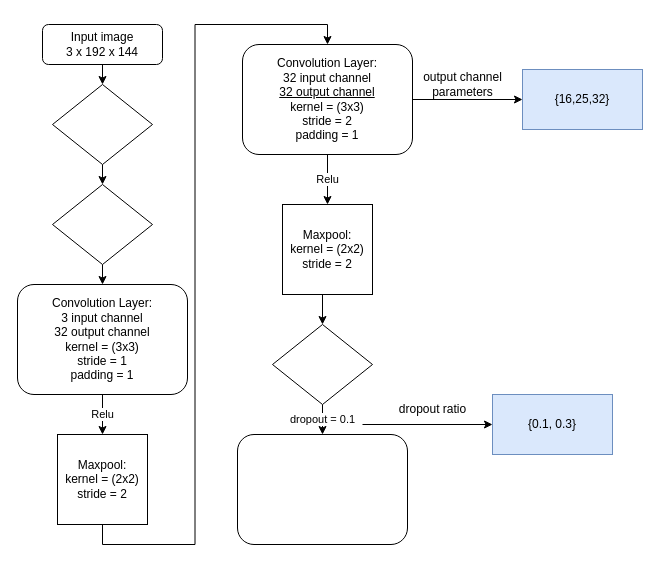
Some shapes in this 660 by 570 pixel diagram are drawn without their labels. Here are the shapes that lost their labels. From the top down, the centre of each, then its label:
At (x=102, y=124): "Resized to 144x144".
At (x=102, y=224): "normalize".
At (x=322, y=364): "Flatten".
At (x=322, y=489): "Linear Layer: 10368 input vector 3 output vector".
